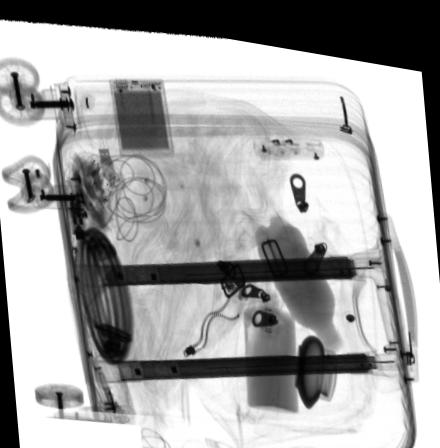Powerbank: (107, 73, 173, 152)
